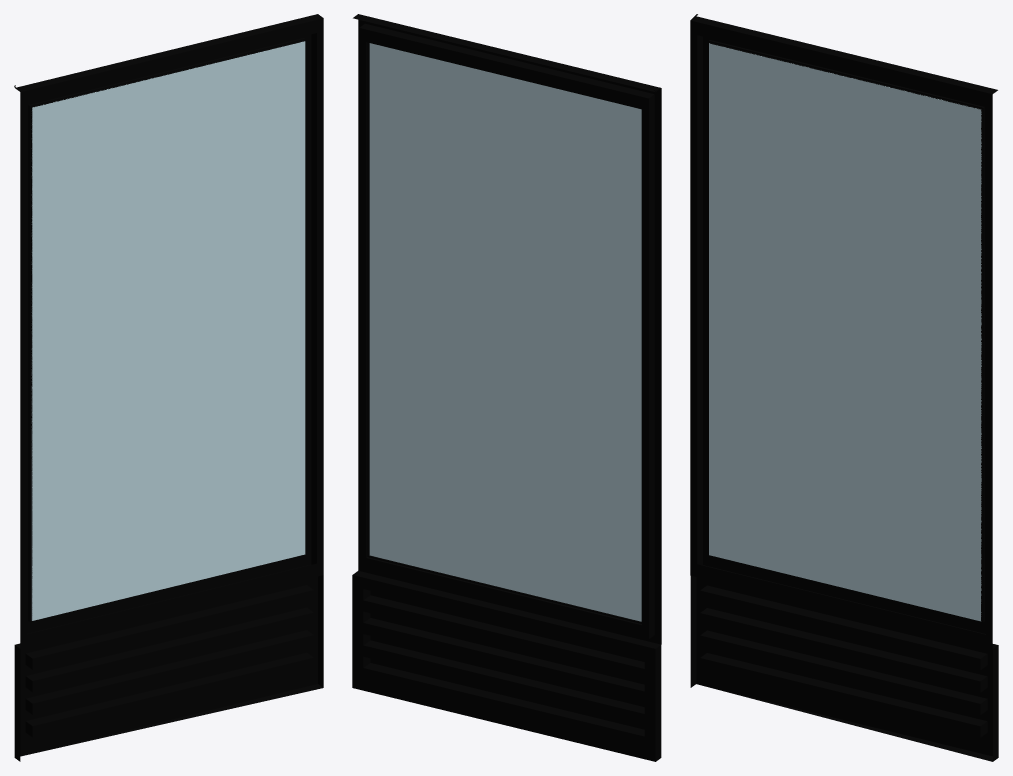
File: Porta01Fechada.glb
3 renders of one model, left to right at view 1: azimuth 30°, elevation 25°; view 2: azimuth 150°, elevation 25°; view 3: azimuth 330°, elevation 25°, orthographic.
Visible parts, largest first — view 1: Porta1F; view 2: Porta1F; view 3: Porta1F.
Boxes of the visible parts, x1,y1,x2,y2 form: Porta1F: (14, 14, 323, 761); Porta1F: (352, 14, 661, 761); Porta1F: (690, 14, 998, 761).
Size of the model in its own units: 0.9725 by 2.06 by 0.0414.
